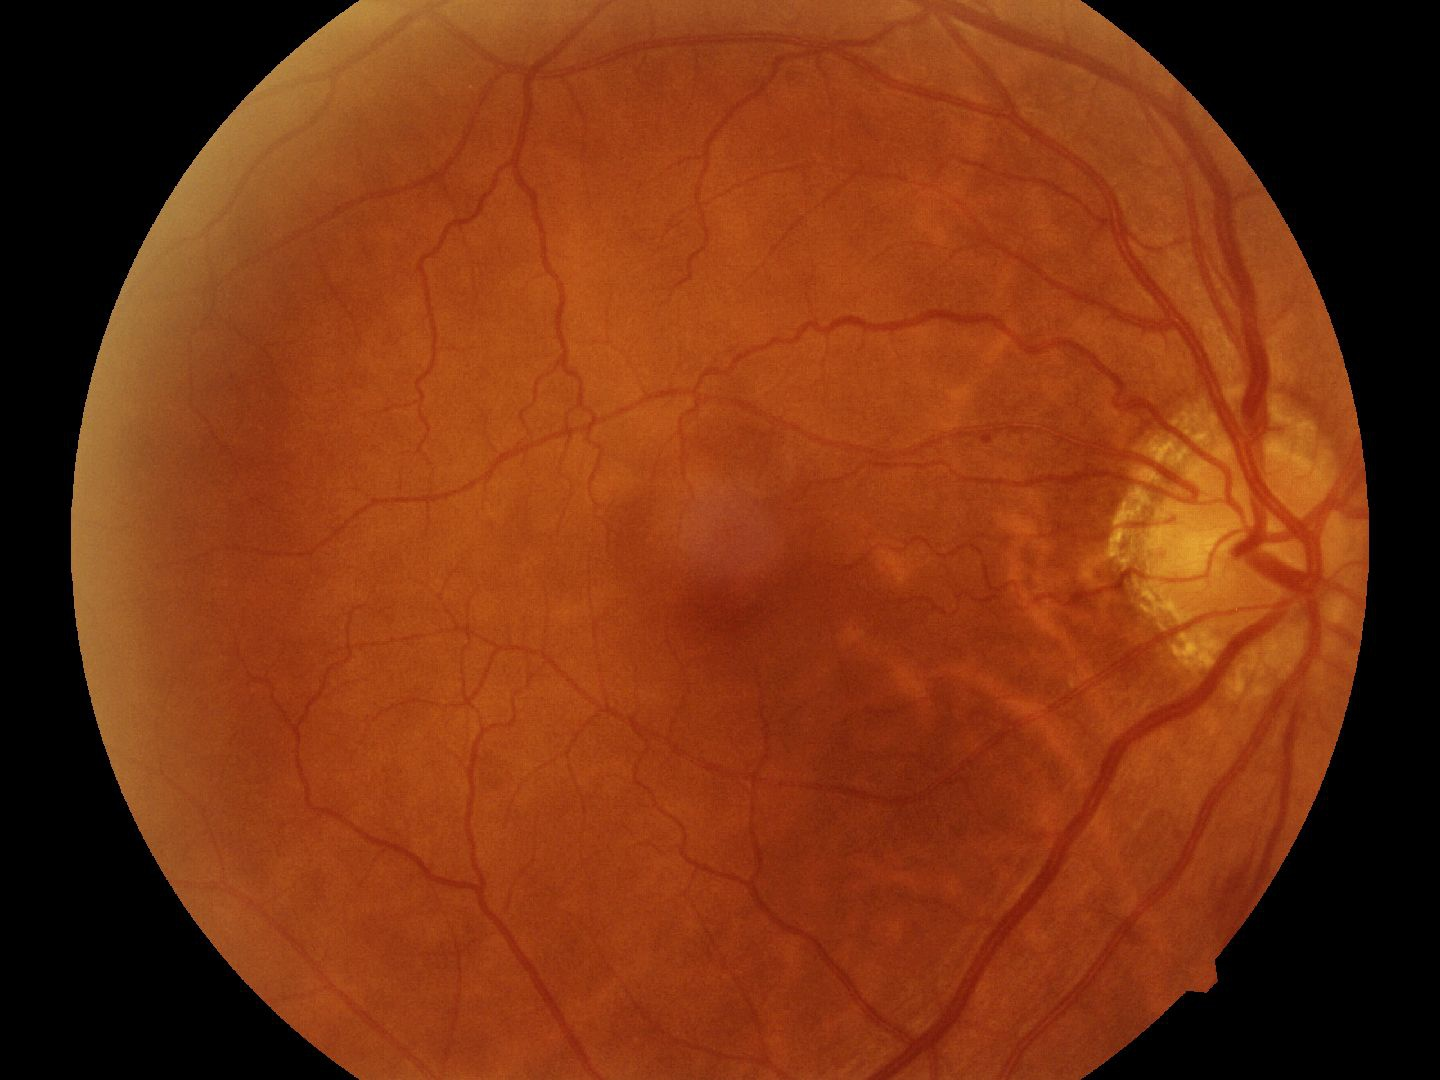Arterioles: (305, 458, 675, 815)
Optic-Disc: (1141, 383, 1355, 724)
Venules: (930, 803, 1099, 1071), (1129, 103, 1252, 372)
